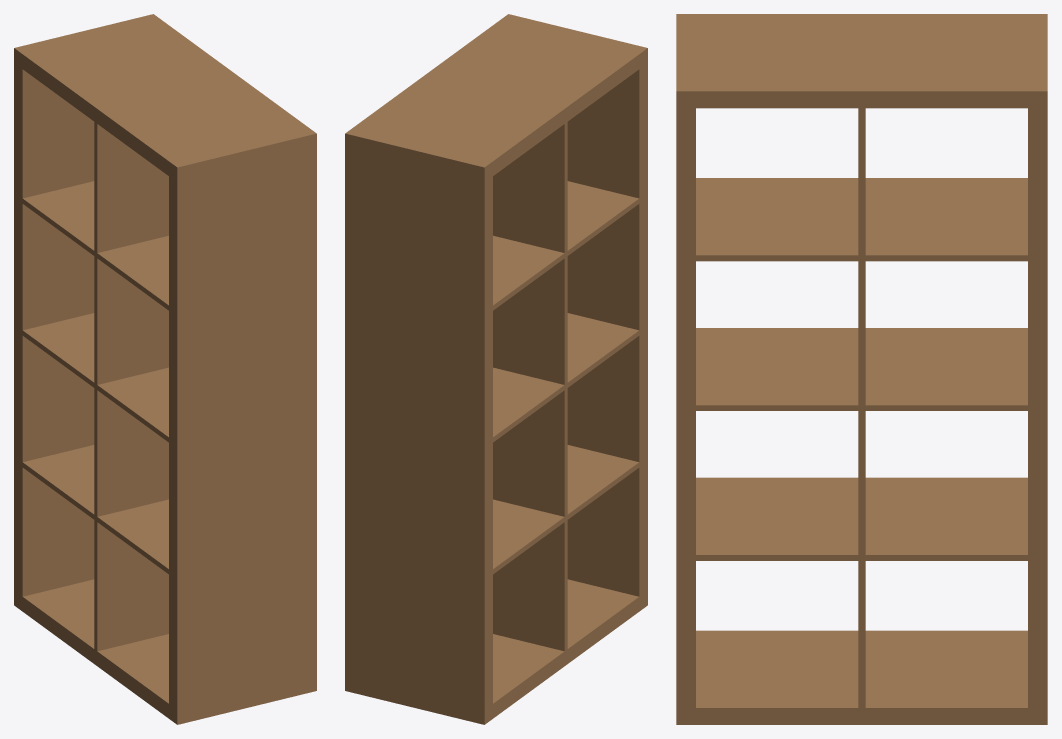
File: rack_2.FBX
The picture shows the model from 3 angles, left to right: view 1: azimuth 30°, elevation 25°; view 2: azimuth 150°, elevation 25°; view 3: azimuth 270°, elevation 25°; orthographic projection. The views are drawn at different scales.
Visible parts, largest first — view 1: rack_2; view 2: rack_2; view 3: rack_2.
Boxes of the visible parts, box(x1,y1,x2,y2) form: rack_2: box(14, 14, 316, 724); rack_2: box(345, 14, 647, 724); rack_2: box(676, 14, 1047, 724).
Size of the model in its own units: 0.3901 by 1.49 by 0.7913.
